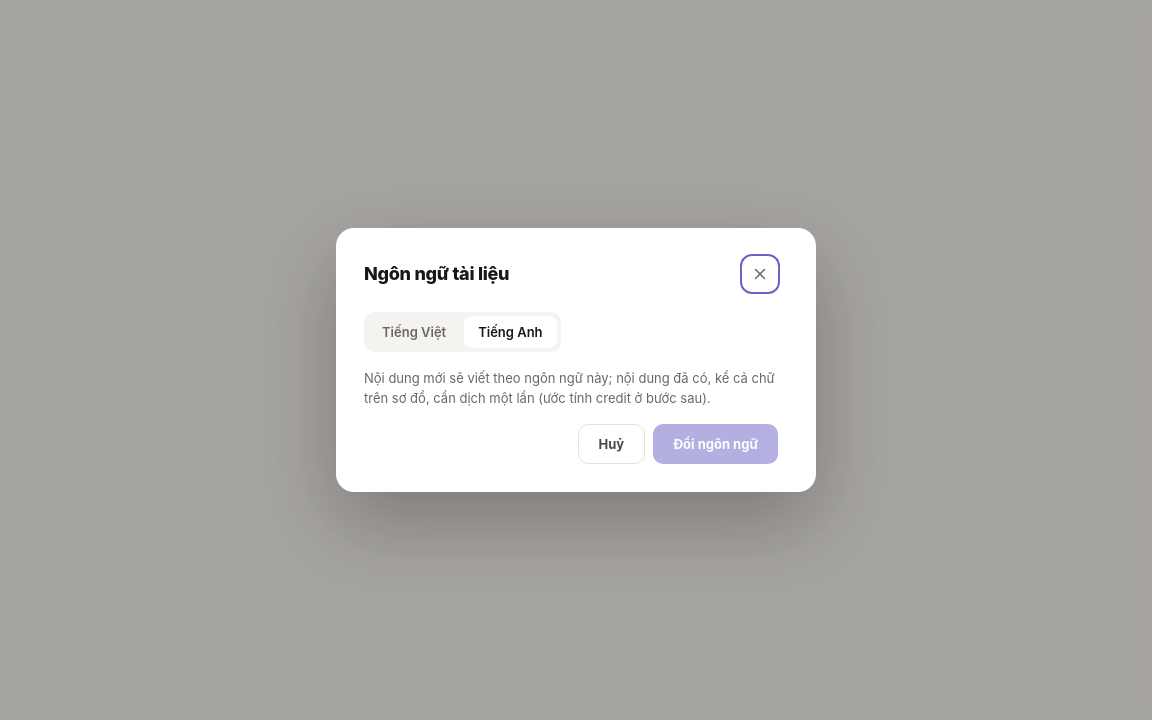
it: ProjectActionDialogs — ngôn ngữ tài liệu (FLF-265) › 409 DOCUMENT_LANGUAGE_LOCKED ⇒ câu đã dịch theo mã lỗi, không đóng
The width and height of the screenshot is (1152, 720).
Click the radio button labelled "Tiếng Việt" at [414, 332], box [382, 324, 446, 340]
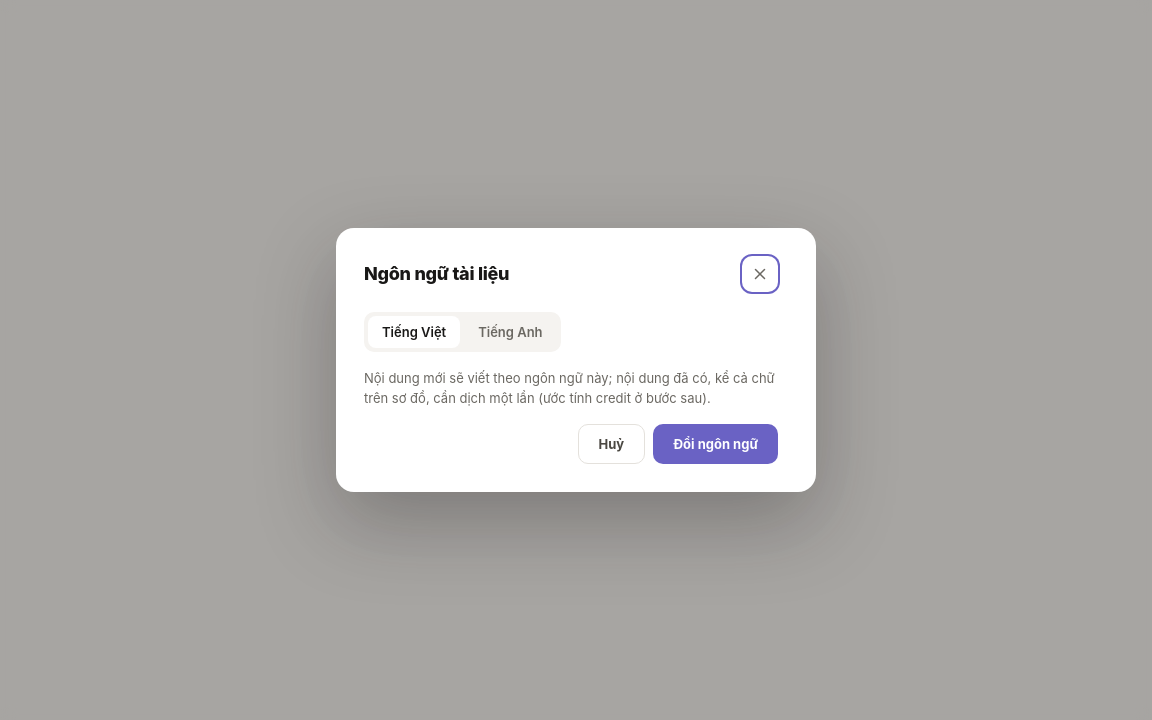
Click the button "Đổi ngôn ngữ" at [716, 444], box [653, 424, 778, 464]
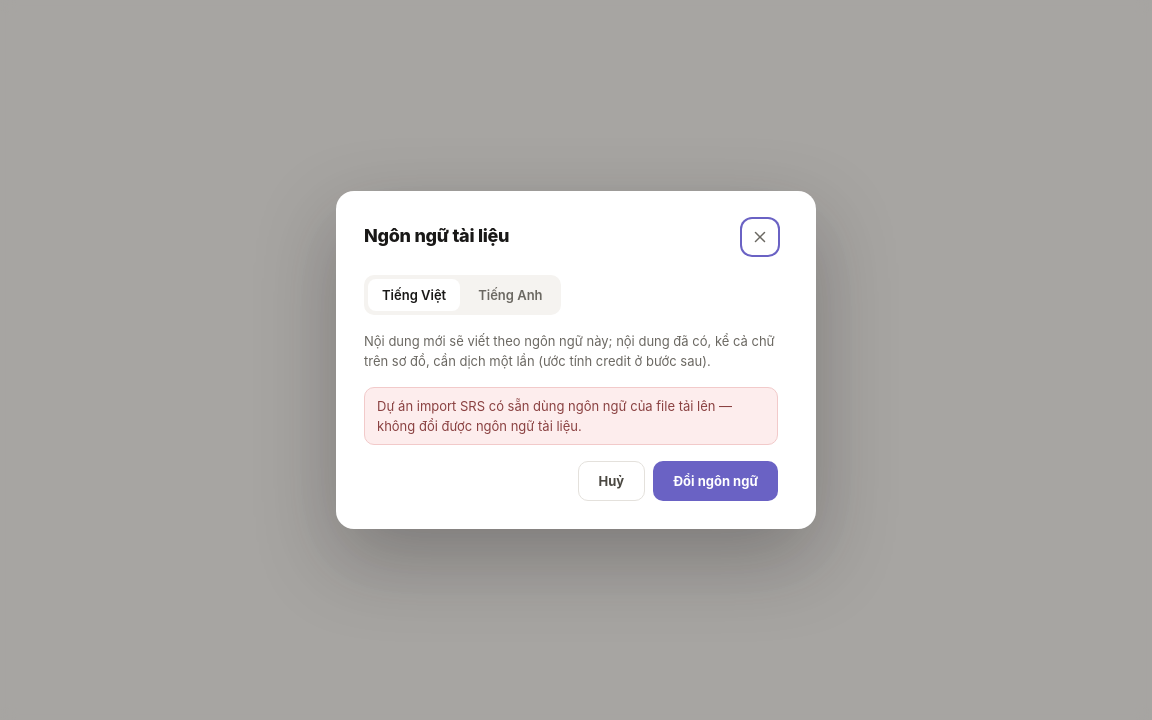
Expected: the message shows "Dự án import SRS có sẵn dùng ngôn ngữ của file tải lên — không đổi được ngôn ngữ tài liệu.", [377, 398, 732, 434]
